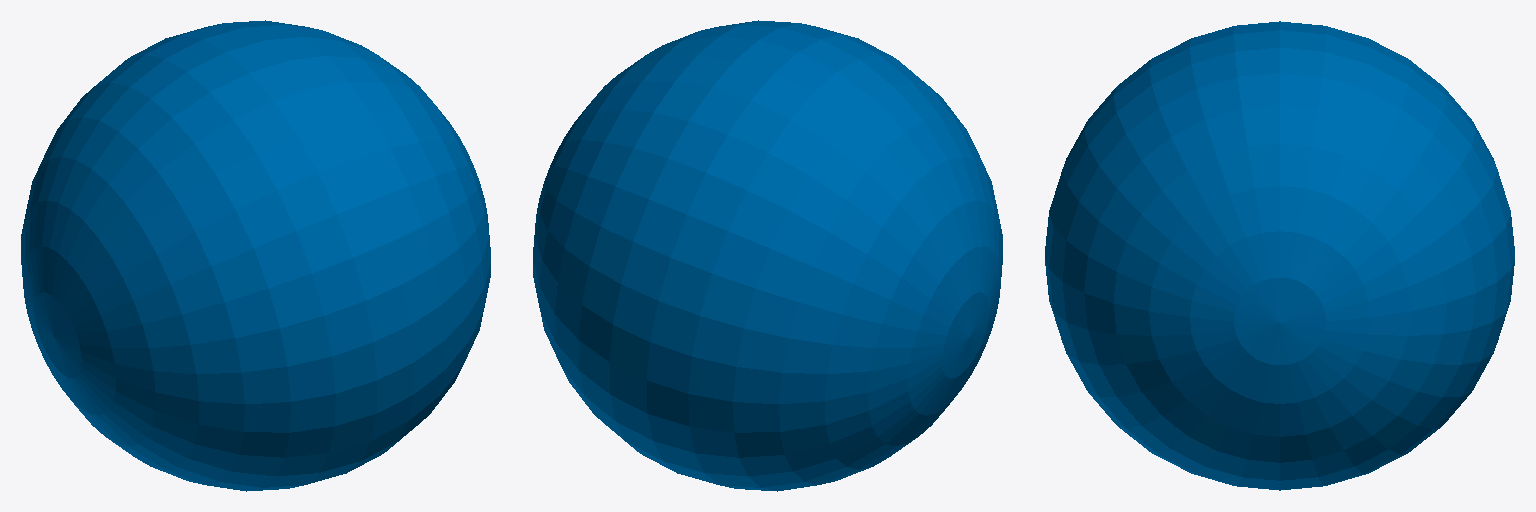
robot.urdf — hyqreal:
<?xml version="1.0" encoding="utf-8"?>
<robot name="hyqreal">
<link name="base_link">
    <inertial>
      <origin xyz="0.0149 -0.00186 -0.03465"/>
      <mass value="56.5"/>
      <inertia ixx="1.498728" ixy="-0.007369" ixz="-0.189135" iyy="9.492381" iyz="0.000185" izz="9.012359"/>
    </inertial>
  </link>

  <!-- Links -->
  <!-- Hip assembly link -->
  <link name="lf_hipassembly">
    <inertial>
      <origin xyz="-0.010027 -0.010608 0.003644"/>
      <mass value="4.973275"/>
      <inertia ixx="0.011231" ixy="-0.000592" ixz="0.000225" iyy="0.015768" iyz="0.000224" izz="0.016863"/>
    </inertial>
  </link>

  <!-- Upper leg link -->
  <link name="lf_upperleg">
    <inertial>
      <origin xyz="0.107987 -0.011459 -0.002121"/>
      <mass value="5.877927"/>
      <inertia ixx="0.016432" ixy="0.001863" ixz="0.003897" iyy="0.075737" iyz="-0.00024" izz="0.079267"/>
    </inertial>
  </link>

  <!-- Lower leg link -->
  <link name="lf_lowerleg">
    <inertial>
      <origin xyz="0.149302 -0.003801 -0.000624"/>
      <mass value="1.291954"/>
      <inertia ixx="0.001088" ixy="-0.000572" ixz="0.000118" iyy="0.029215" iyz="0.00046" izz="0.029772"/>
    </inertial>
  </link>

  <!-- Foot link -->
  <link name="lf_foot">
    <visual>
      <origin rpy="0.0 0.0 0.0" xyz="0.0 0.0 0.0"/>
      <geometry>
        <sphere radius="0.032"/>
      </geometry>
      <material name="black"/>
    </visual>
    <collision>
      <origin rpy="0 0 0" xyz="0 0 0"/>
      <geometry>
        <sphere radius="0.032"/>
      </geometry>
    </collision>
  </link>

  <!-- Joints -->
  <!-- HAA joint -->
  <joint name="lf_haa_joint" type="revolute">
    <origin rpy="3.14159265359 1.57079632679 0" xyz="0.4435 0.139 0"/>
    <parent link="base_link"/>
    <child link="lf_hipassembly"/>
    <axis xyz="0 0 1"/>
    <dynamics damping="0.1" friction="0"/>
    <limit effort="173.0" lower="-0.733038285838" upper="0.401425727959" velocity="12.0"/>
    <safety_controller k_position="50" k_velocity="10" soft_lower_limit="-0.733038285838" soft_upper_limit="0.401425727959"/>
  </joint>

  <!-- HFE joint -->
  <joint name="lf_hfe_joint" type="revolute">
    <origin rpy="1.57079632679 0 0" xyz="0 -0.117 0"/>
    <parent link="lf_hipassembly"/>
    <child link="lf_upperleg"/>
    <axis xyz="0 0 1"/>
    <dynamics damping="0.1" friction="0"/>
    <limit effort="208" lower="-2.35619449019" upper="2.35619449019" velocity="12.0"/>
    <safety_controller k_position="50" k_velocity="10" soft_lower_limit="-2.35619449019" soft_upper_limit="2.35619449019"/>
  </joint>

  <!-- KFE joint -->
  <joint name="lf_kfe_joint" type="revolute">
    <origin rpy="0 0 0" xyz="0.36 0 0"/>
    <parent link="lf_upperleg"/>
    <child link="lf_lowerleg"/>
    <axis xyz="0 0 1"/>
    <dynamics damping="0.1" friction="0"/>
    <limit effort="249" lower="-2.77001205584" upper="-0.669857366915" velocity="12.0"/>
    <safety_controller k_position="50.0" k_velocity="10.0" soft_lower_limit="-2.77001205584" soft_upper_limit="-0.669857366915"/>
  </joint>

  <!-- Foot joint -->
  <joint name="lf_foot_joint" type="fixed">
    <origin rpy="1.57079632679 0 -1.57079632679" xyz="0.38 0 0"/>
    <parent link="lf_lowerleg"/>
    <child link="lf_foot"/>
  </joint>

</robot>

--- Render facts (derived) ---
3 views of the same robot in one strip: view 1: azimuth 30°, elevation 25°; view 2: azimuth 150°, elevation 25°; view 3: azimuth 270°, elevation 25° (orthographic).
Robot: hyqreal — 5 links, 4 joints (3 revolute, 1 fixed); root link base_link; default pose: joints at zero except 1 at the middle of their limits (lf_kfe_joint = -1.72).
Visible links, largest first — view 1: lf_foot; view 2: lf_foot; view 3: lf_foot.
Link boxes in pixels (bbox=[...]): lf_foot: bbox=[21, 20, 490, 491]; lf_foot: bbox=[533, 20, 1002, 491]; lf_foot: bbox=[1045, 21, 1514, 490].
Size in the robot's own frame: 0.0639 by 0.064 by 0.0639 metres.
Geometry: primitives only (box / cylinder / sphere), no mesh files.